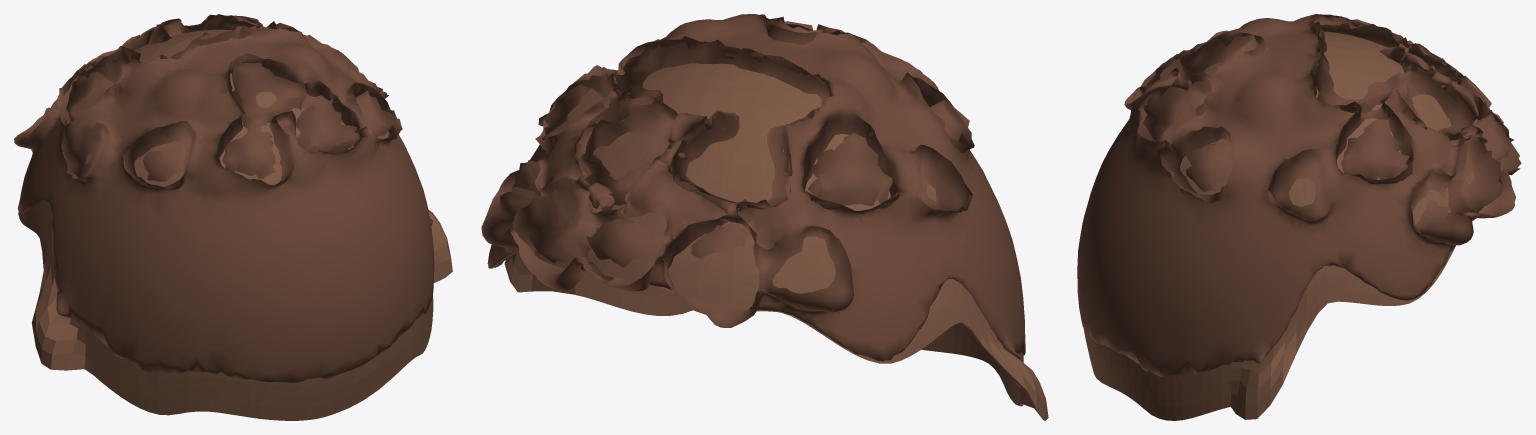
Rendered from hair_curly_m.glb.
3 renders of one model, left to right at view 1: azimuth 30°, elevation 25°; view 2: azimuth 150°, elevation 25°; view 3: azimuth 270°, elevation 25°, orthographic. The views are drawn at different scales.
Visible parts, largest first — view 1: Acc_hair_curly_HairCurly, Acc_hair_curly_HairFade; view 2: Acc_hair_curly_HairCurly, Acc_hair_curly_HairFade; view 3: Acc_hair_curly_HairCurly, Acc_hair_curly_HairFade.
Part boxes in pixels (box(x1,y1,x2,y2)): Acc_hair_curly_HairCurly: box(14, 14, 434, 382); Acc_hair_curly_HairFade: box(18, 29, 452, 420); Acc_hair_curly_HairCurly: box(481, 14, 1025, 361); Acc_hair_curly_HairFade: box(488, 63, 1048, 420); Acc_hair_curly_HairCurly: box(1077, 14, 1521, 377); Acc_hair_curly_HairFade: box(1083, 31, 1503, 420).
Size of the model in its own units: 0.3784 by 0.2725 by 0.3352.
